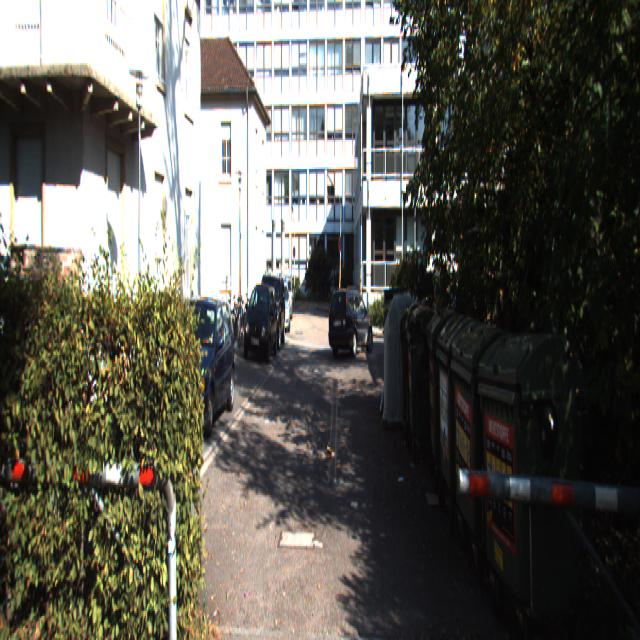Car: (162, 291, 236, 438), (328, 287, 373, 360), (242, 286, 278, 364), (256, 272, 286, 354), (273, 282, 291, 331)
